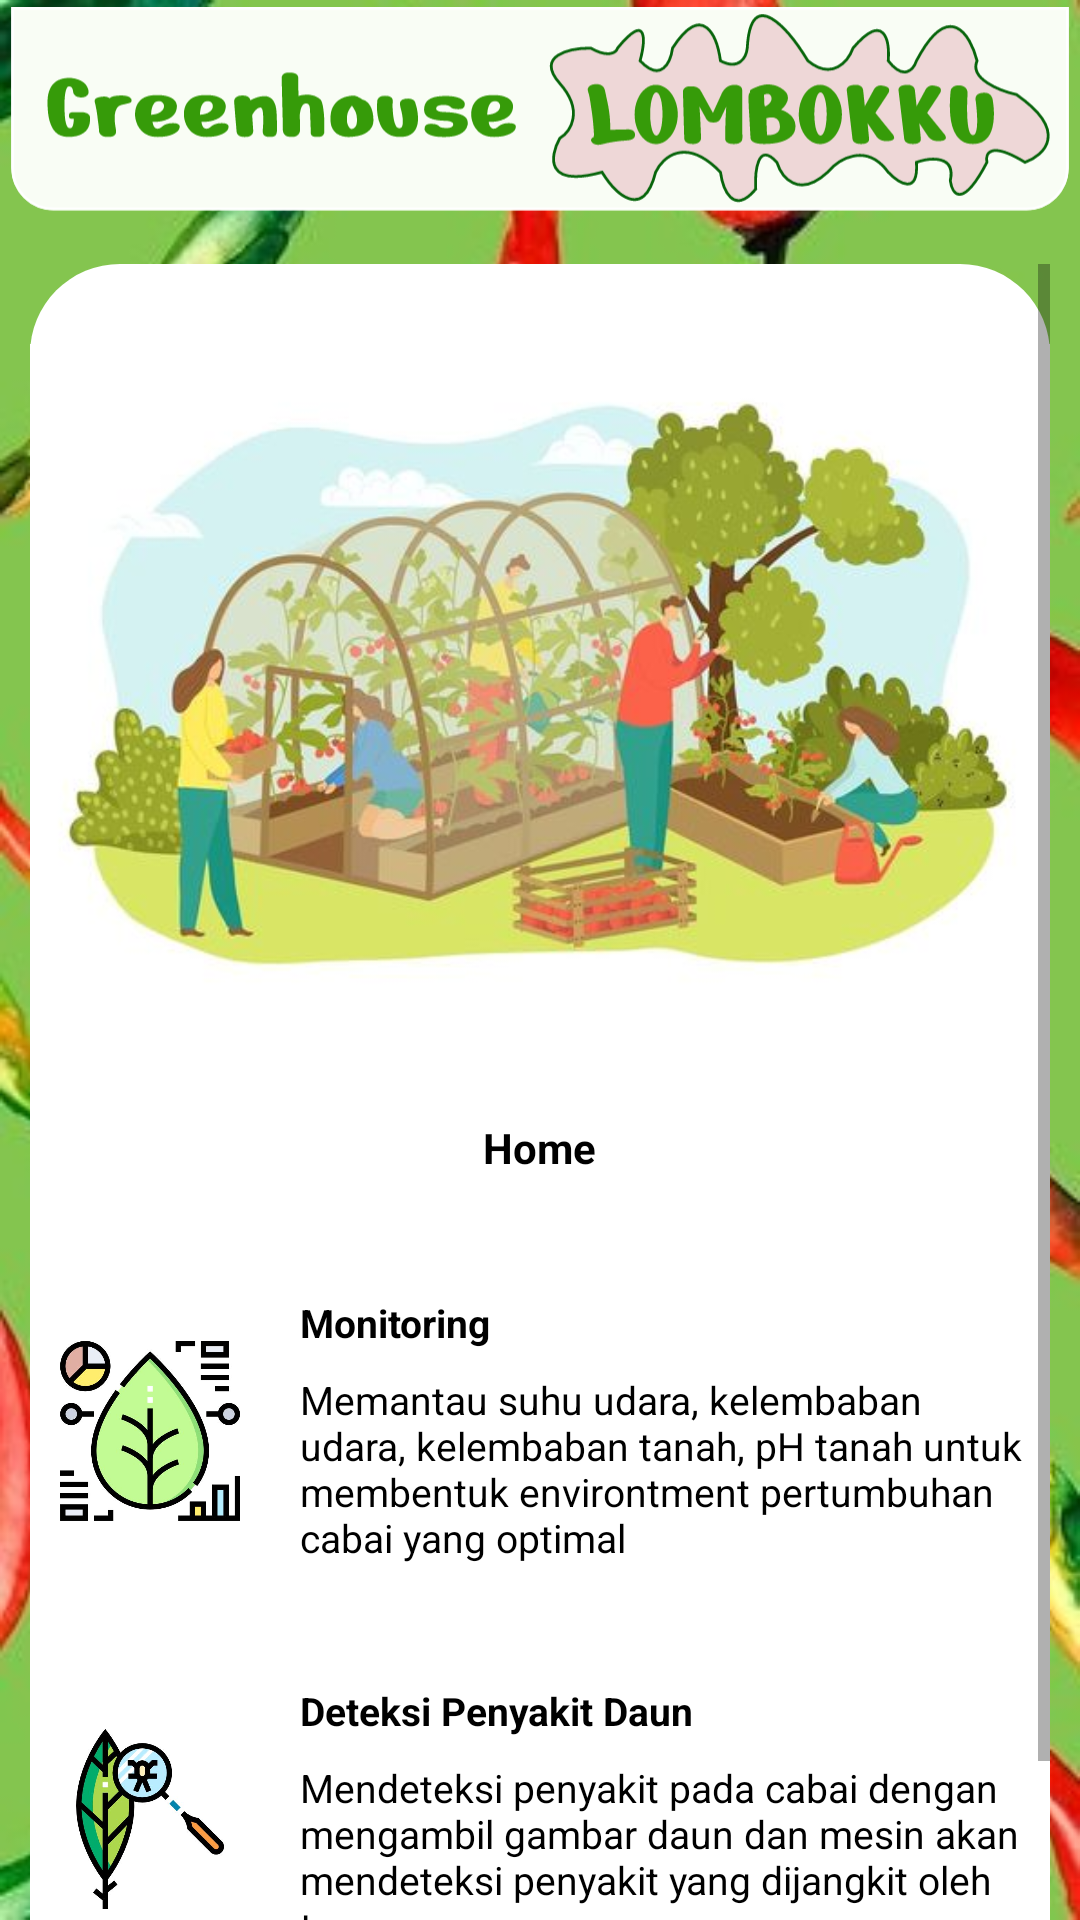

Point at icon controls on the screen. Image size 1080px×1920px, points as [x,y].
detection: [150,1819]
